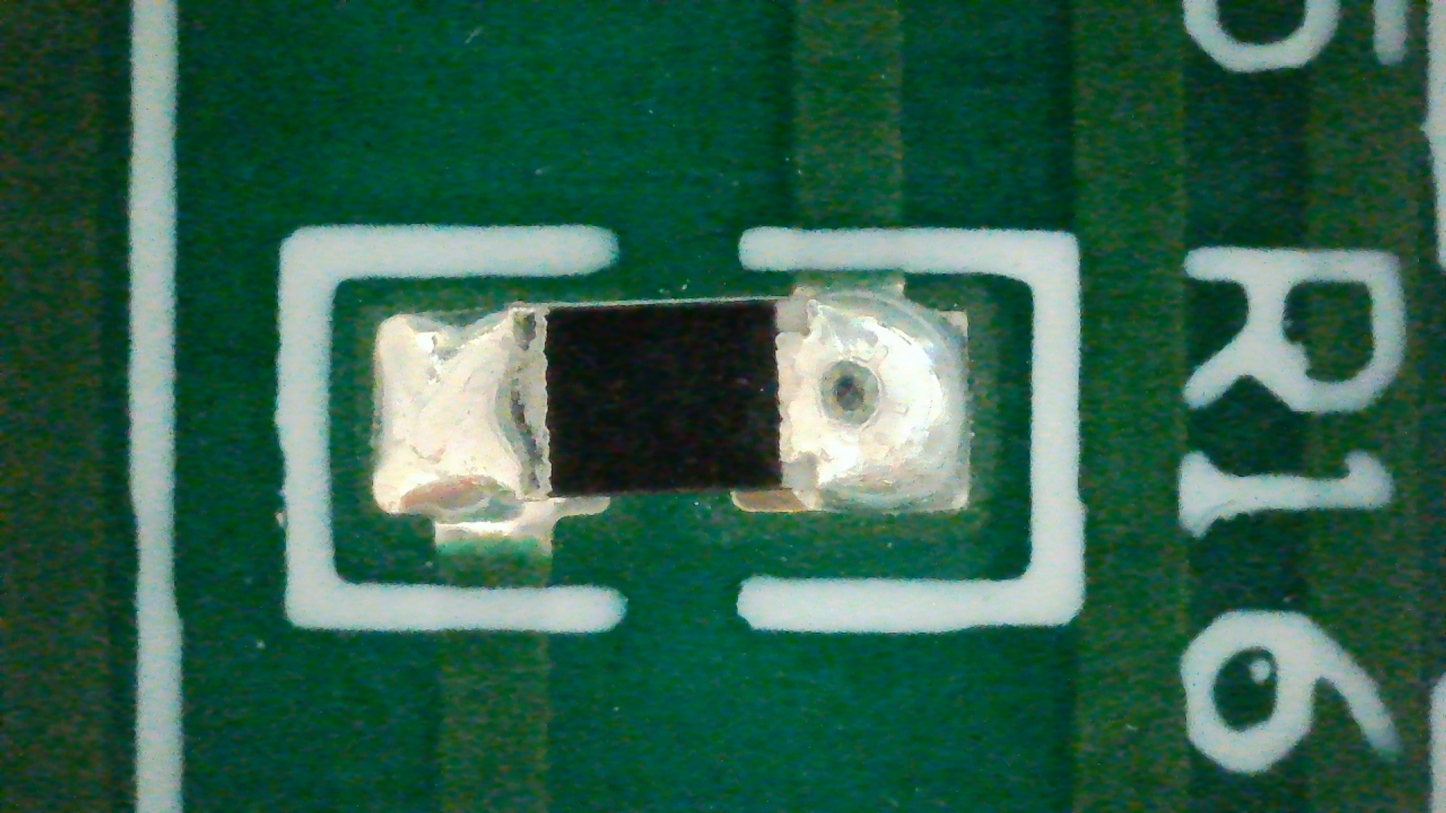OK: (369, 286, 971, 549)
